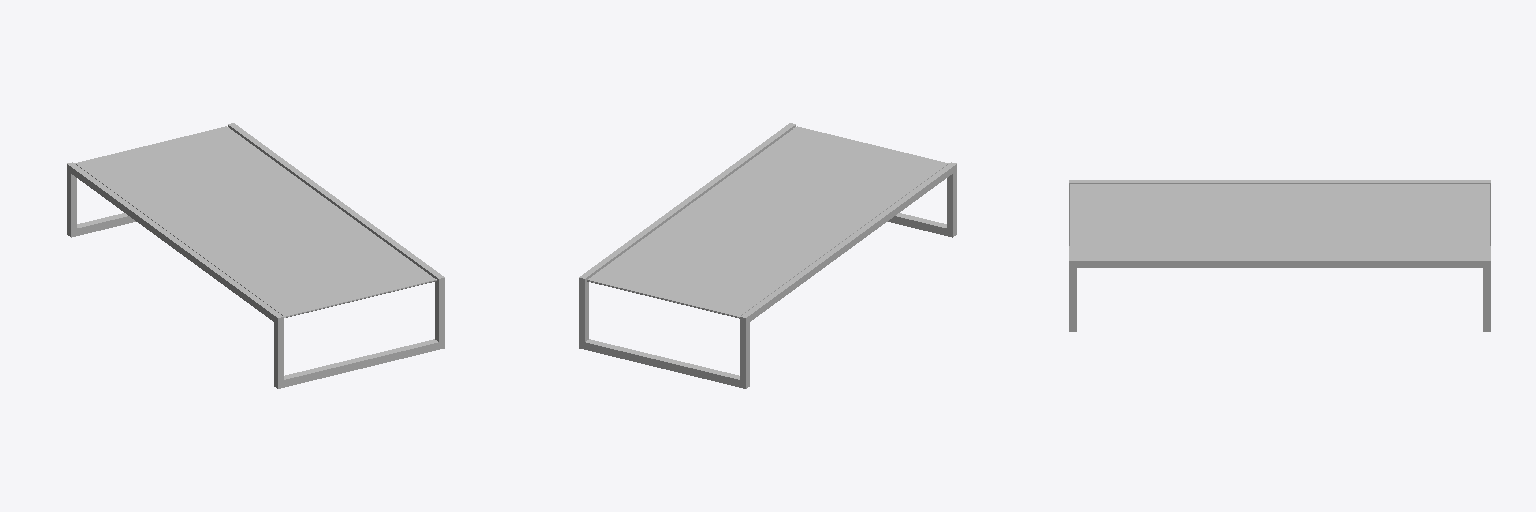
File: table1.obj
3 views of the same model, side by side, from view 1: azimuth 30°, elevation 25°; view 2: azimuth 150°, elevation 25°; view 3: azimuth 270°, elevation 25° (orthographic).
Parts seen in each view (by area): view 1: pCube4, polySurface5; view 2: pCube4, polySurface5; view 3: pCube4, polySurface5.
Part boxes in pixels (bbox=[...]): pCube4: bbox=[75, 126, 436, 316]; polySurface5: bbox=[67, 123, 444, 388]; pCube4: bbox=[587, 126, 948, 317]; polySurface5: bbox=[579, 123, 956, 388]; pCube4: bbox=[1070, 184, 1489, 257]; polySurface5: bbox=[1069, 180, 1490, 331].
Bounding box in the file's own units: 3.09 × 1.25 × 6.76.